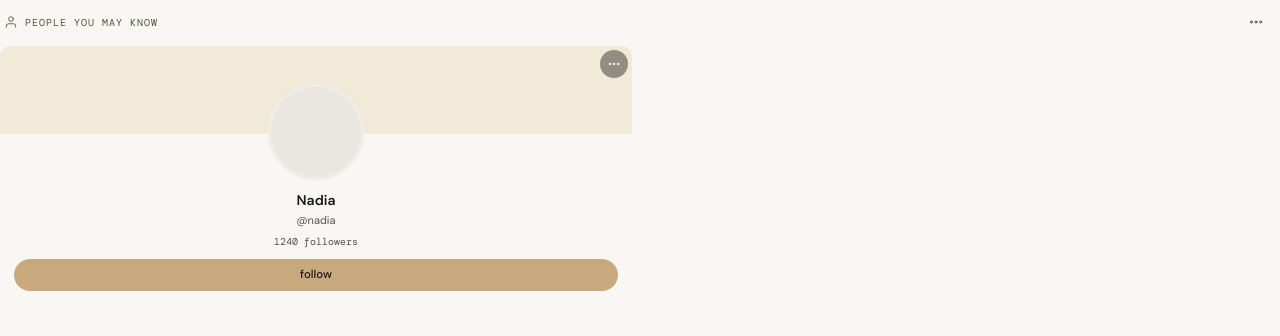
Test: FeedPeopleCard › offers follow, hide, block and report from one account menu
The width and height of the screenshot is (1280, 336).
What coordinates should you click on to do the following:
click the button named "options for nadia"
I would click on:
 (614, 64)
Its box is [600, 50, 628, 78].
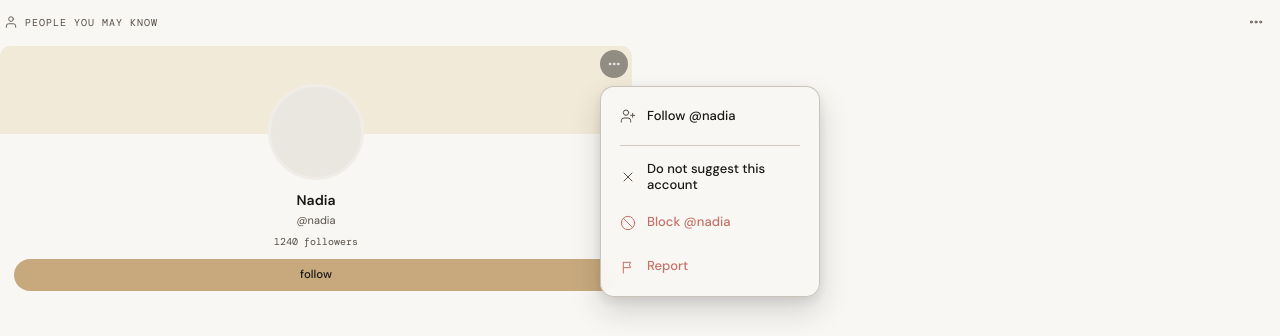
Check: the button "Follow @nadia" is shown, box [608, 94, 812, 138]
Check: the button "Do not suggest this account" is shown, box [608, 145, 812, 200]
